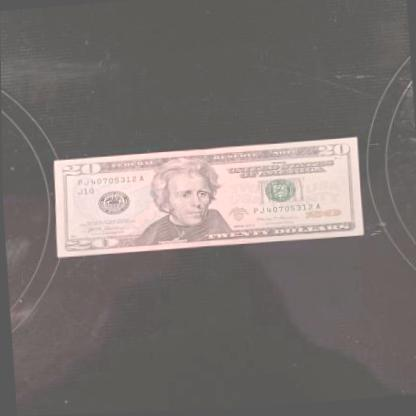twenty-front: (51, 137, 364, 260)
